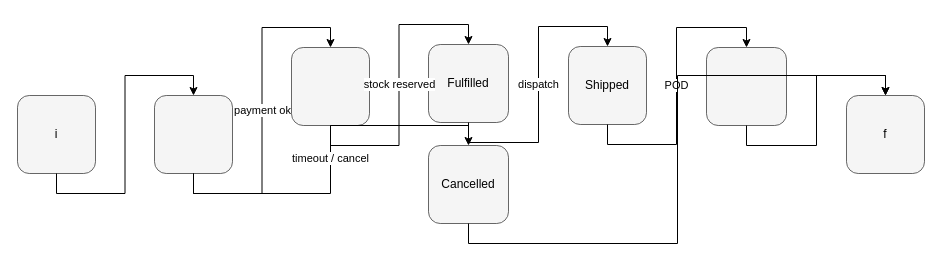
Image size: 942x269. Some labels were removed from this diagram. The shapes that lost their labels are listed below. From the top down, each one's box as (x1, y1, x2, y2) in pixels, then its label:
(290, 46, 370, 126): Paid
(706, 46, 786, 126): Delivered
(154, 94, 232, 174): Pending
